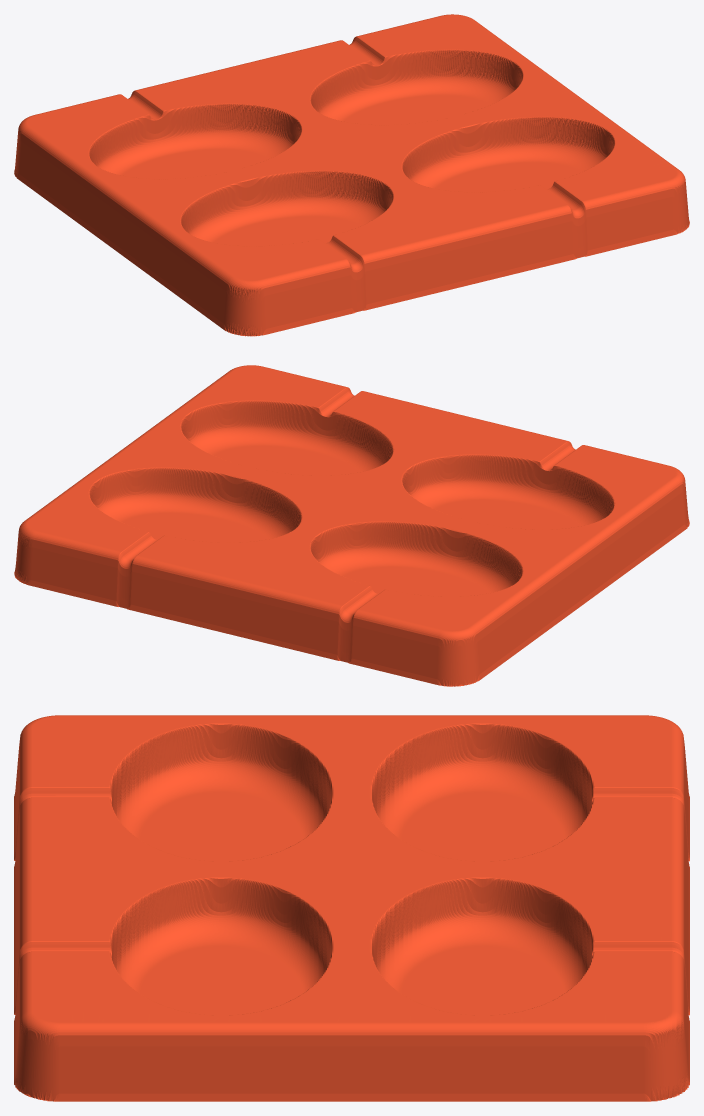
File: mold.glb
The picture shows the model from 3 angles, top to bottom: view 1: azimuth 30°, elevation 25°; view 2: azimuth 150°, elevation 25°; view 3: azimuth 270°, elevation 25°; orthographic projection. The views are drawn at different scales.
Parts seen in each view (by area): view 1: geometry_0; view 2: geometry_0; view 3: geometry_0.
Part boxes in pixels (x1,y1,x2,y2): geometry_0: [14, 14, 689, 336]; geometry_0: [14, 365, 689, 686]; geometry_0: [14, 715, 689, 1101].
Bounding box in the file's own units: 0.1497 × 0.0155 × 0.1329.
